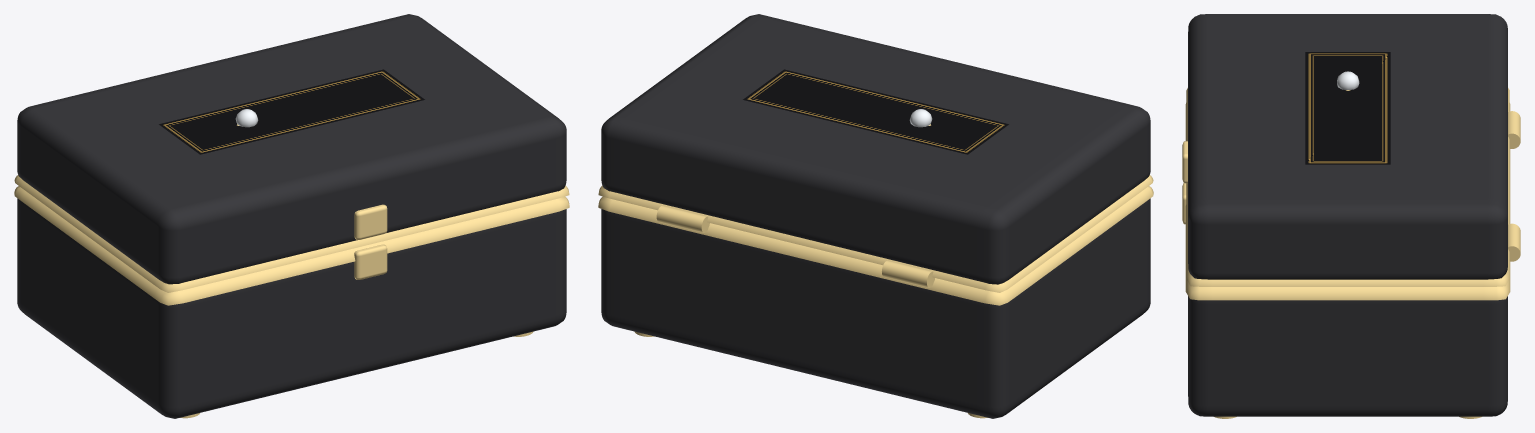
The model's file is alfa_gold_jewellery_box.glb.
The picture shows the model from 3 angles, left to right: view 1: azimuth 30°, elevation 25°; view 2: azimuth 150°, elevation 25°; view 3: azimuth 270°, elevation 25°; orthographic projection. The views are drawn at different scales.
Parts seen in each view (by area): view 1: Box_LidMesh, Box_Base; view 2: Box_LidMesh, Box_Base; view 3: Box_LidMesh, Box_Base.
Boxes of the visible parts, x1,y1,x2,y2 form: Box_LidMesh: (14, 14, 569, 292); Box_Base: (14, 109, 569, 418); Box_LidMesh: (598, 14, 1153, 292); Box_Base: (598, 109, 1153, 418); Box_LidMesh: (1182, 14, 1509, 286); Box_Base: (1182, 71, 1520, 418).
Size of the model in its own units: 0.9088 by 0.484 by 0.635.
Materials: 7 (1 with a texture image).
